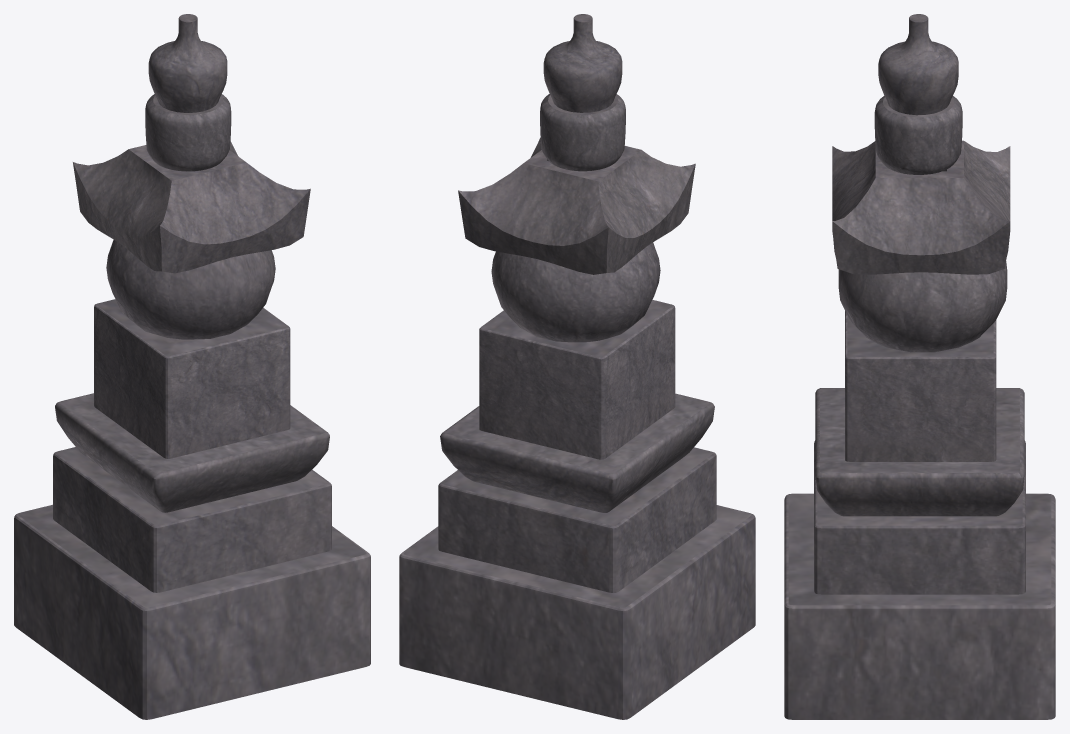
Rendered from tombstone2.FBX.
The picture shows the model from 3 angles, left to right: view 1: azimuth 30°, elevation 25°; view 2: azimuth 150°, elevation 25°; view 3: azimuth 270°, elevation 25°; orthographic projection. The views are drawn at different scales.
Visible parts, largest first — view 1: tombstone2; view 2: tombstone2; view 3: tombstone2.
Part boxes in pixels (<box>): tombstone2: <box>14,14,370,719</box>; tombstone2: <box>399,14,755,719</box>; tombstone2: <box>784,14,1055,719</box>.
Bounding box in the file's own units: 28.3 × 28.3 × 73.9.
